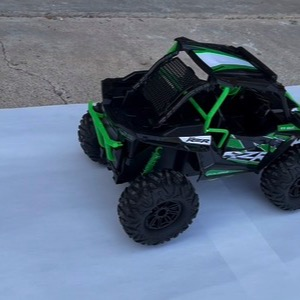polaris: (76, 35, 298, 248)
